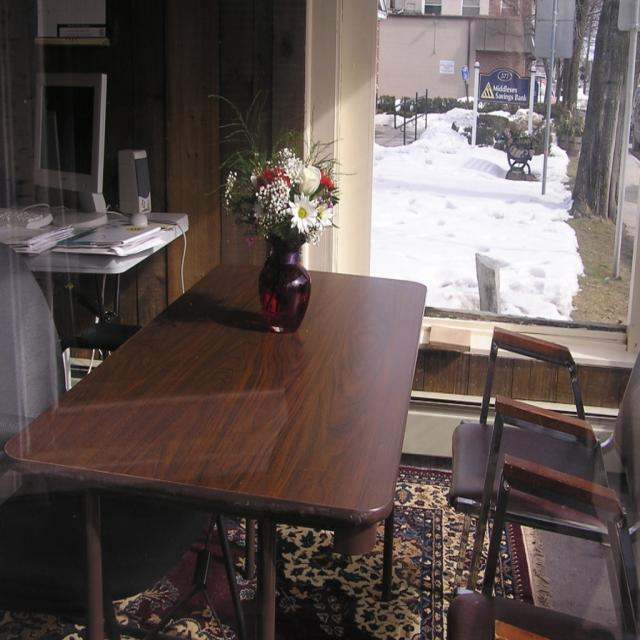chair: (446, 401, 639, 640)
desk: (6, 264, 426, 639)
tv: (32, 72, 107, 198)
